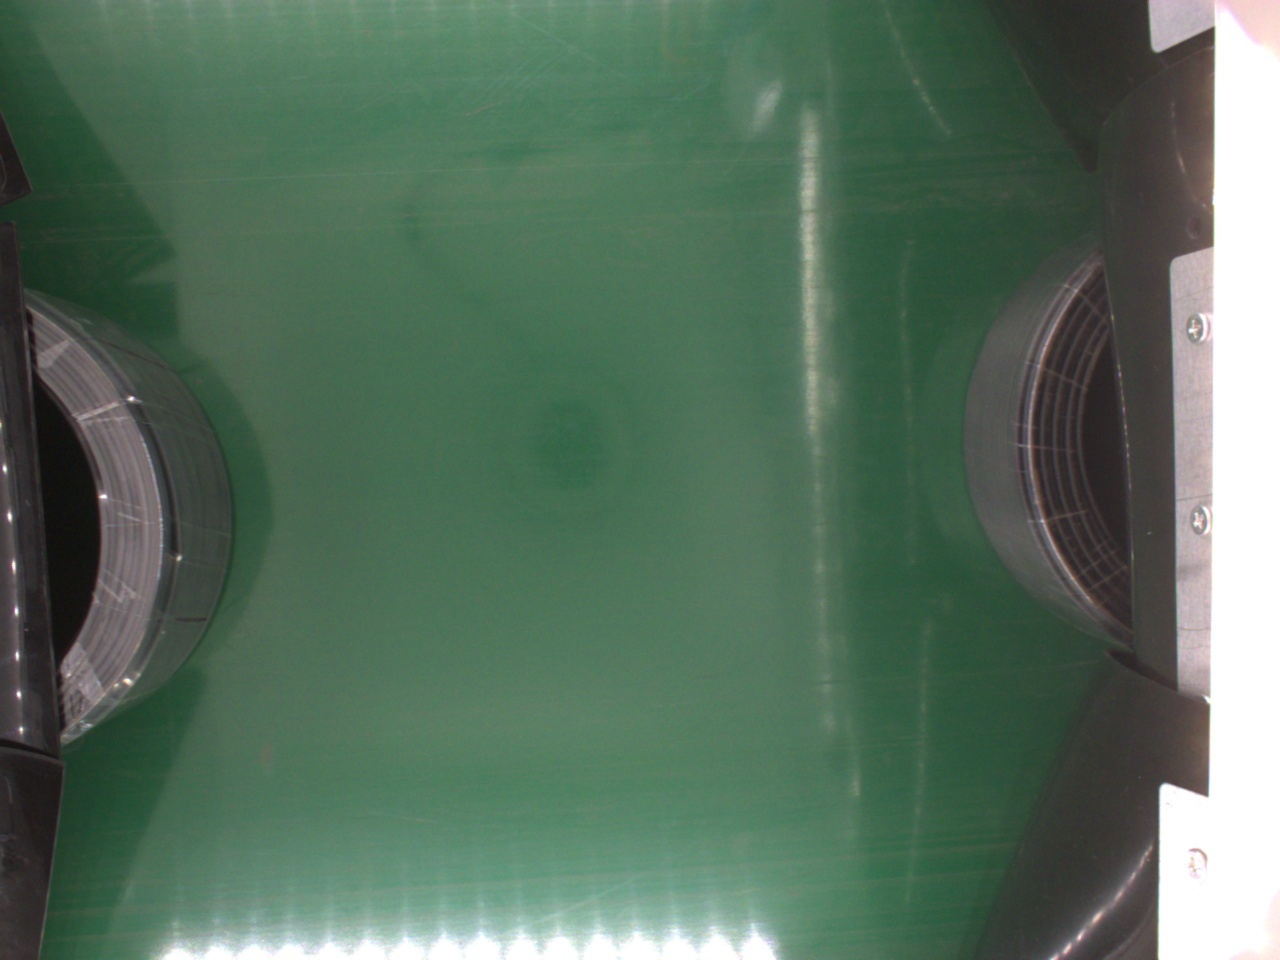black: (23, 285, 234, 744), (963, 239, 1128, 656)
